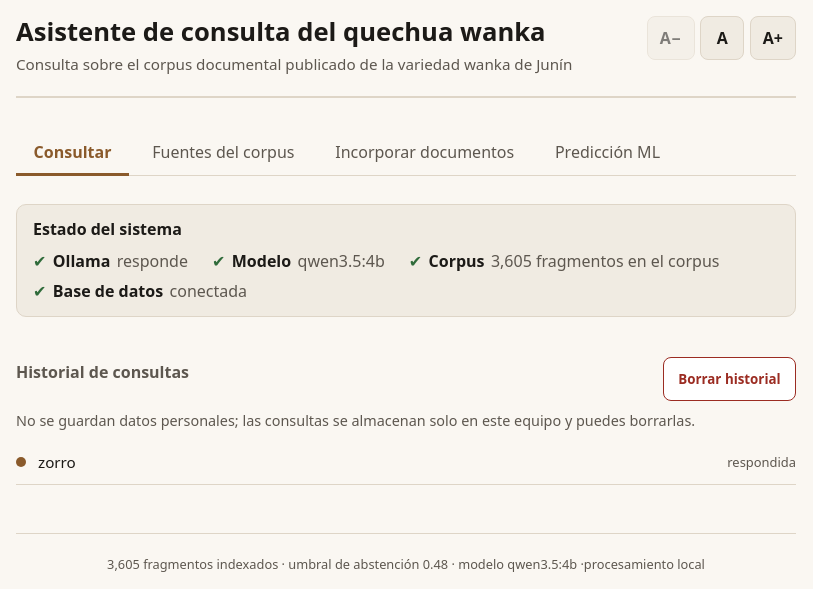
Test case: historial › se recarga tras cada consulta, avisa de privacidad y se borra con confirmación
This screenshot has width=813, height=589.
Check: the text "zorro" is shown, box [38,452,76,472]
Check: the text "No se guardan datos personales" is shown, box [16,411,695,430]
Click the button "Borrar historial".
click(729, 379)  # box [663,357,796,401]
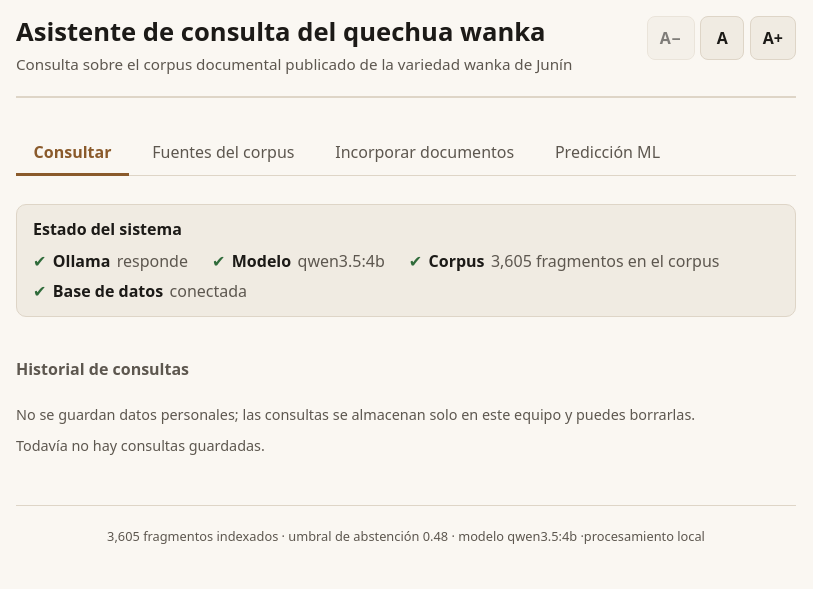
Check: the text "Todavía no hay consultas guardadas." is shown, box [16,436,265,455]
